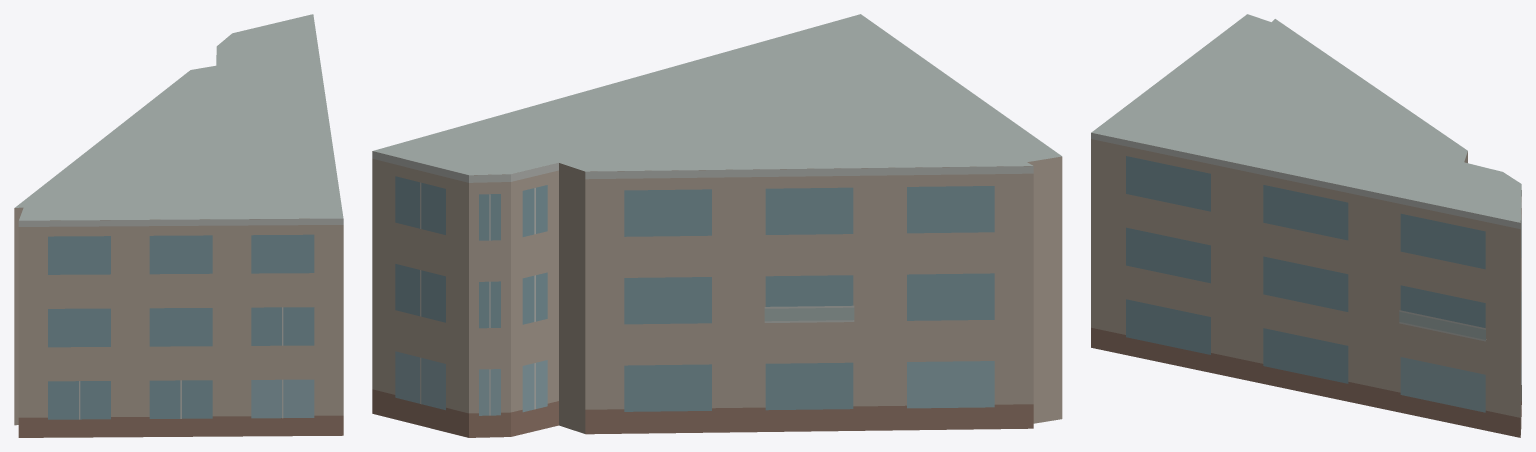
The model's file is survey-upis-32772028.glb.
3 views of the same model, side by side, from view 1: azimuth 30°, elevation 25°; view 2: azimuth 150°, elevation 25°; view 3: azimuth 270°, elevation 25° (orthographic). The views are drawn at different scales.
Parts seen in each view (by area): view 1: survey-upis-32772028.tmp; view 2: survey-upis-32772028.tmp; view 3: survey-upis-32772028.tmp.
Part boxes in pixels (x1=…): survey-upis-32772028.tmp: x1=14, y1=14, x2=343, y2=437; survey-upis-32772028.tmp: x1=372, y1=14, x2=1062, y2=437; survey-upis-32772028.tmp: x1=1091, y1=14, x2=1521, y2=437.
Size of the model in its own units: 17.38 by 8.34 by 15.15.
